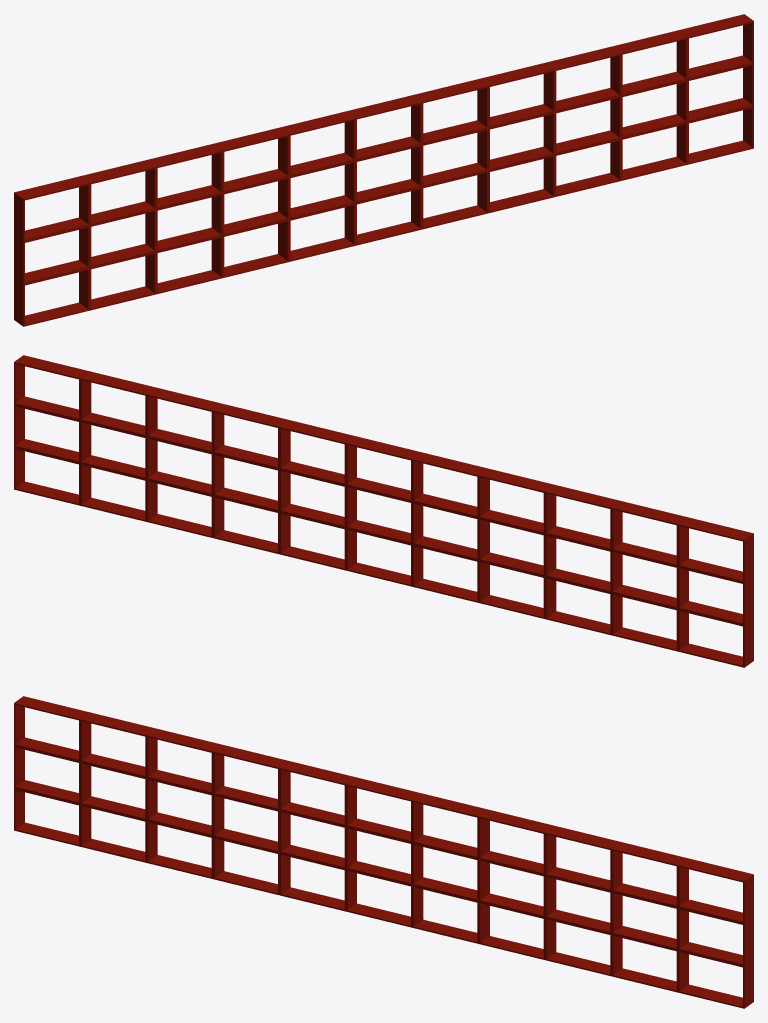
The picture shows the model from 3 angles, top to bottom: view 1: azimuth 30°, elevation 25°; view 2: azimuth 150°, elevation 25°; view 3: azimuth 330°, elevation 25°; orthographic projection.
Parts seen in each view (by area): view 1: Cube.057; view 2: Cube.057; view 3: Cube.057.
Part boxes in pixels (bbox=[...]): Cube.057: bbox=[14, 14, 753, 326]; Cube.057: bbox=[14, 355, 753, 667]; Cube.057: bbox=[14, 696, 753, 1008].
Bounding box in the file's own units: 12.88 × 2.15 × 0.2899.
